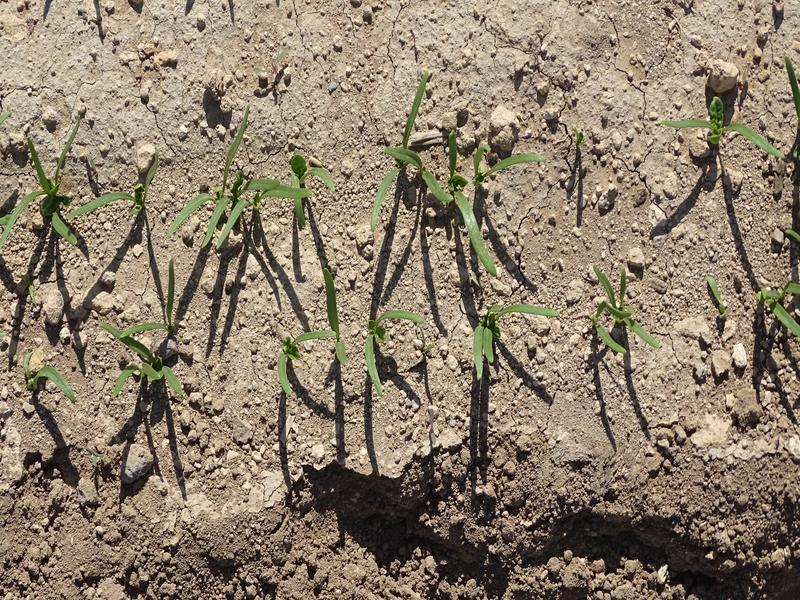Espinaca: (373, 94, 547, 273), (169, 103, 339, 244), (276, 304, 426, 401), (1, 116, 87, 253), (101, 307, 203, 416), (466, 298, 561, 380), (590, 266, 665, 355), (669, 99, 776, 159), (70, 150, 163, 215), (19, 346, 78, 405), (762, 275, 800, 336)
